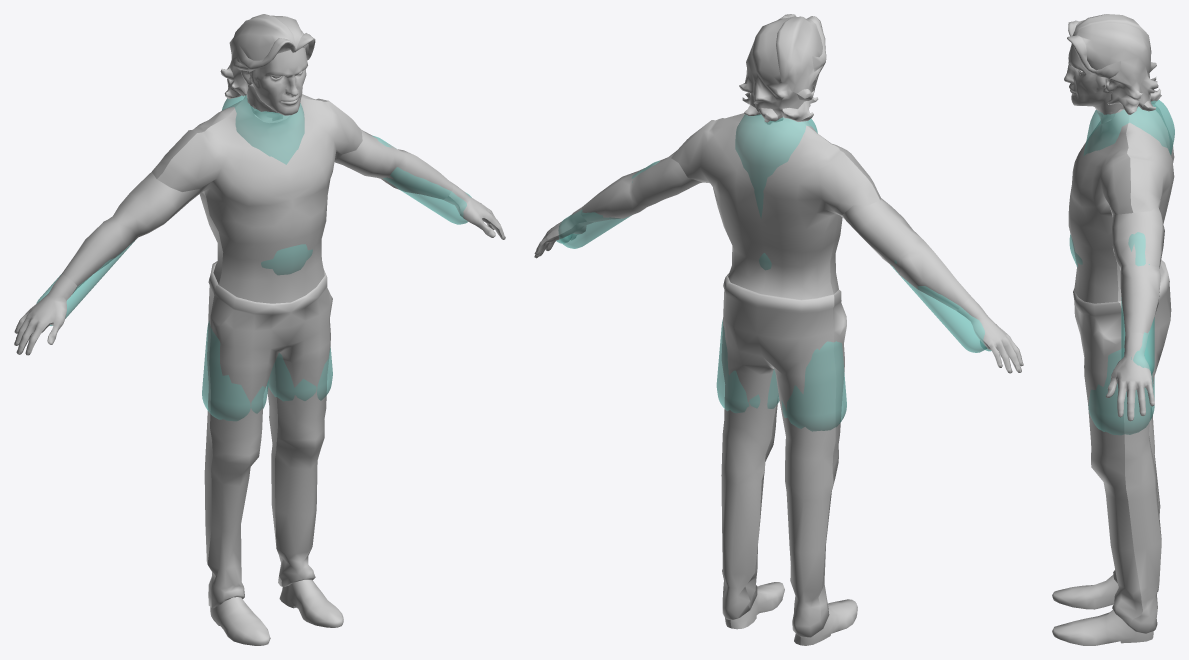
File: player.obj
3 views of the same model, side by side, from view 1: azimuth 30°, elevation 25°; view 2: azimuth 150°, elevation 25°; view 3: azimuth 270°, elevation 25° (orthographic).
Visible parts, largest first — view 1: ビッグビー・ウルフ_mesh_ビッグビー・ウルフ, 上半身_Capsule, 右足_Capsule.002, 左ひじ_Capsule.005, 左足_Capsule.003, 下半身_Capsule.001, 右ひじ_Capsule.004; view 2: ビッグビー・ウルフ_mesh_ビッグビー・ウルフ, 右足_Capsule.002, 上半身_Capsule, 右ひじ_Capsule.004, 左足_Capsule.003, 左ひじ_Capsule.005; view 3: ビッグビー・ウルフ_mesh_ビッグビー・ウルフ, 上半身_Capsule, 左足_Capsule.003, 左ひじ_Capsule.005.
Boxes of the visible parts, x1=… form: ビッグビー・ウルフ_mesh_ビッグビー・ウルフ: x1=14, y1=14, x2=505, y2=645; 上半身_Capsule: x1=222, y1=95, x2=304, y2=164; 右足_Capsule.002: x1=202, y1=321, x2=268, y2=421; 左ひじ_Capsule.005: x1=372, y1=135, x2=471, y2=224; 左足_Capsule.003: x1=268, y1=347, x2=332, y2=401; 下半身_Capsule.001: x1=261, y1=244, x2=312, y2=275; 右ひじ_Capsule.004: x1=36, y1=238, x2=137, y2=325; ビッグビー・ウルフ_mesh_ビッグビー・ウルフ: x1=534, y1=14, x2=1023, y2=645; 右足_Capsule.002: x1=781, y1=341, x2=846, y2=431; 上半身_Capsule: x1=735, y1=114, x2=817, y2=218; 右ひじ_Capsule.004: x1=890, y1=260, x2=986, y2=352; 左足_Capsule.003: x1=716, y1=319, x2=779, y2=413; 左ひじ_Capsule.005: x1=558, y1=160, x2=659, y2=248; ビッグビー・ウルフ_mesh_ビッグビー・ウルフ: x1=1052, y1=14, x2=1174, y2=645; 上半身_Capsule: x1=1083, y1=99, x2=1174, y2=155; 左足_Capsule.003: x1=1088, y1=349, x2=1154, y2=435; 左ひじ_Capsule.005: x1=1121, y1=232, x2=1154, y2=375.
Size of the model in its own units: 3.39 by 4 by 0.7399.
